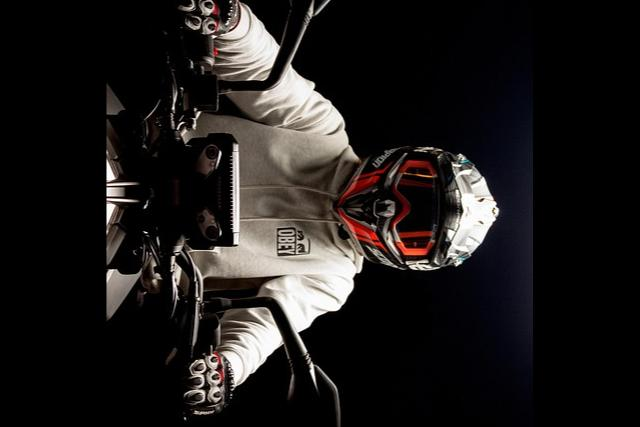Non_Gorille: (106, 0, 498, 427)
